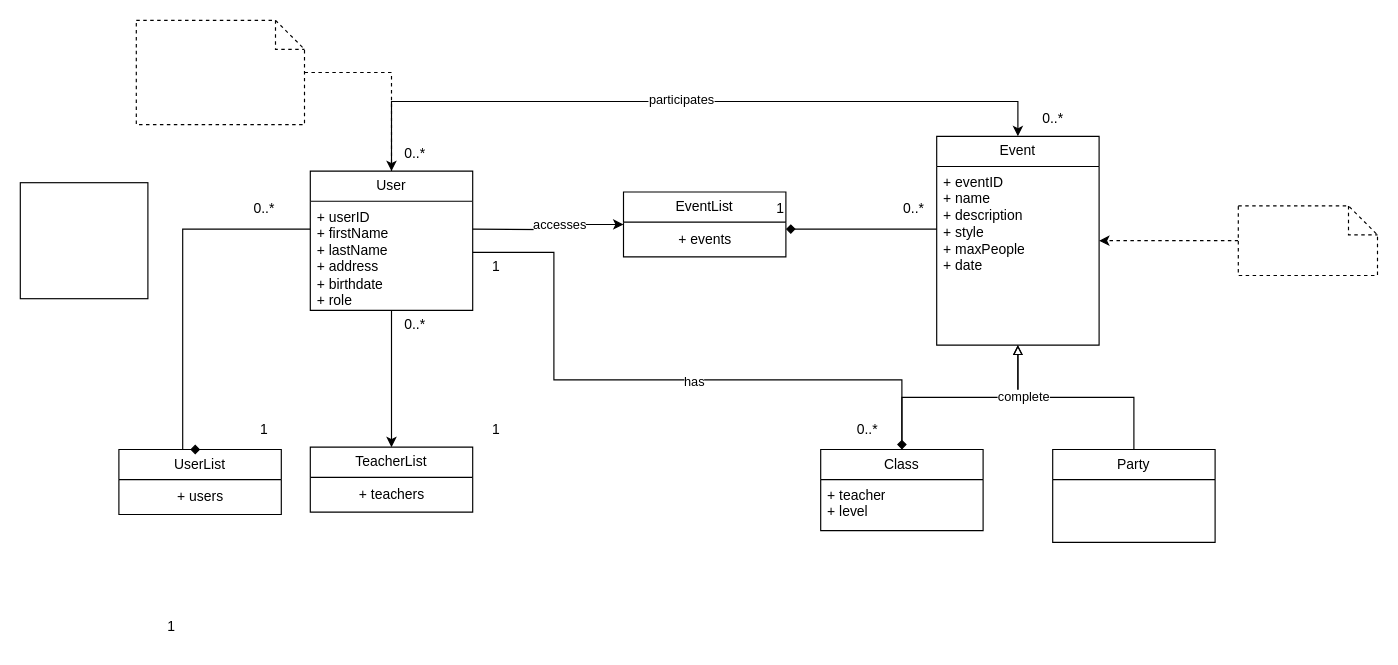
Some shapes in this 1398 by 665 pixel diagram are drawn without their labels. Each missing label, with the centre of its shape:
<<Enumeration>> UserRoleEL Teacher Student: pixel 83 240
ID is unique: pixel 1307 240
ID is unique Role is either teacher or student: pixel 219 72
